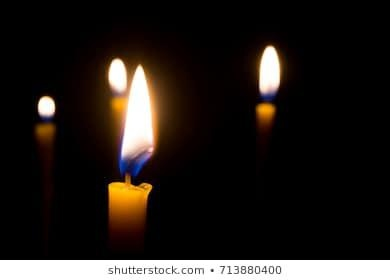fire: (115, 55, 156, 176), (256, 40, 282, 103)
